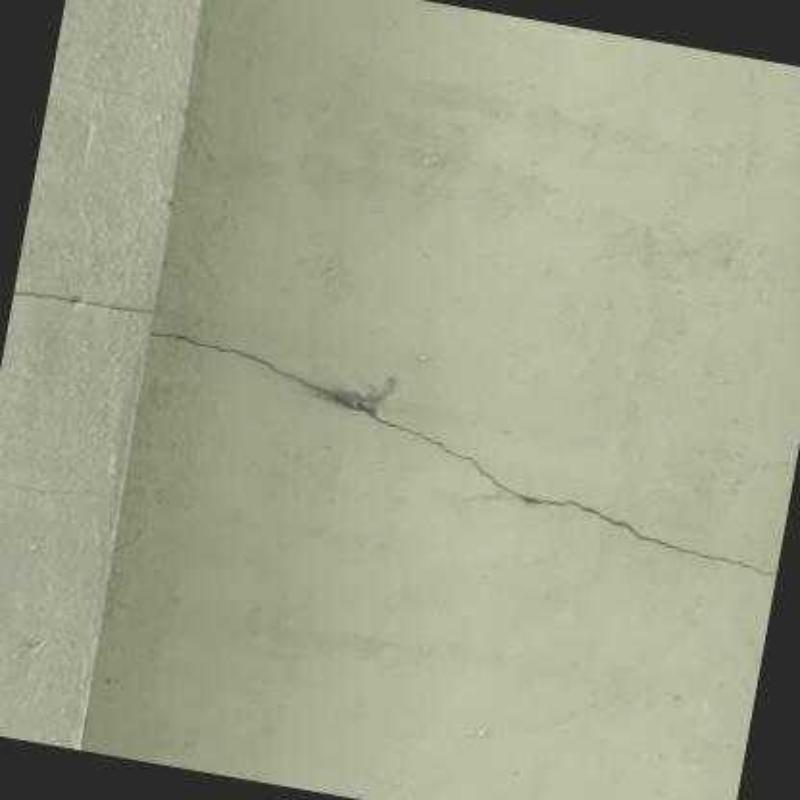pothole: (150, 331, 777, 576), (12, 289, 149, 314)
